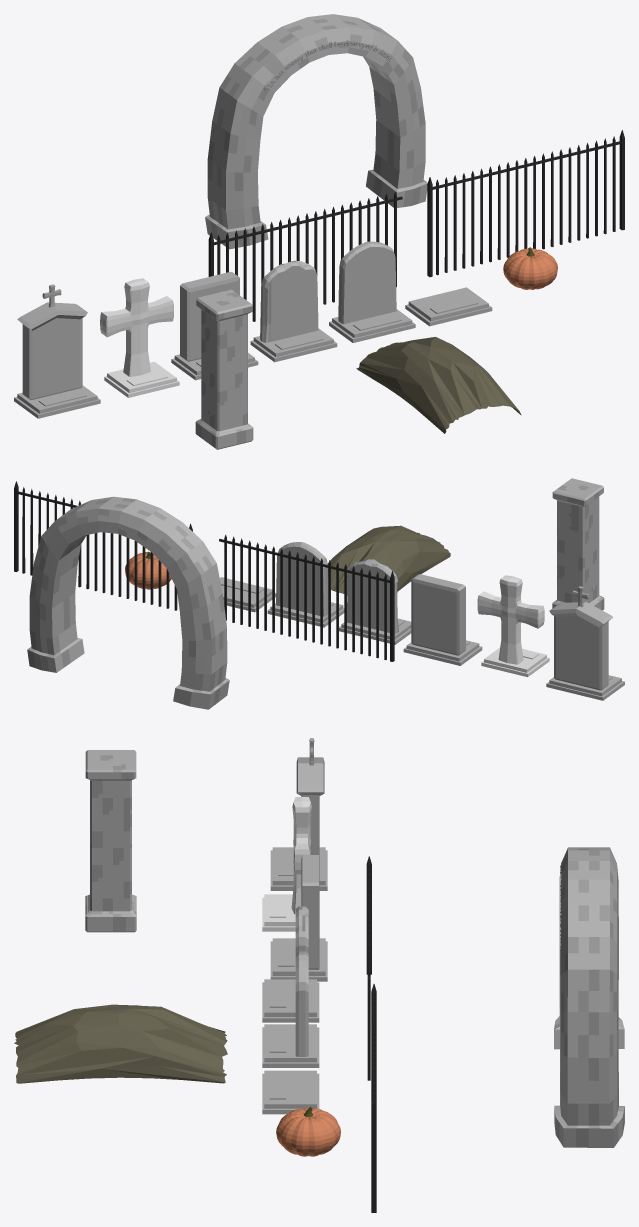
File: Graveyard.fbx
The picture shows the model from 3 angles, top to bottom: view 1: azimuth 30°, elevation 25°; view 2: azimuth 150°, elevation 25°; view 3: azimuth 270°, elevation 25°; orthographic projection. The views are drawn at different scales.
Parts seen in each view (by area): view 1: Arch, Full Gate, Mound of Dirt, Column, Regal Gravestone, Standard Gravestone, Destroyed Gravestone, Cross Gravestone, Half Gate, Square Gravestone, Graveplate, Pumpkin; view 2: Arch, Half Gate, Regal Gravestone, Column, Square Gravestone, Full Gate, Mound of Dirt, Cross Gravestone, Standard Gravestone, Destroyed Gravestone, Graveplate, Pumpkin; view 3: Arch, Mound of Dirt, Column, Standard Gravestone, Square Gravestone, Regal Gravestone, Cross Gravestone, Destroyed Gravestone, Pumpkin, Graveplate, Full Gate, Half Gate.
Boxes of the visible parts, left/top/right/bottom form: Arch: left=205, top=14, right=427, bottom=249; Full Gate: left=427, top=130, right=624, bottom=277; Mound of Dirt: left=356, top=337, right=521, bottom=433; Column: left=195, top=289, right=253, bottom=449; Regal Gravestone: left=14, top=284, right=100, bottom=418; Standard Gravestone: left=329, top=241, right=415, bottom=342; Destroyed Gravestone: left=250, top=260, right=337, bottom=362; Cross Gravestone: left=100, top=278, right=179, bottom=397; Half Gate: left=208, top=192, right=402, bottom=321; Square Gravestone: left=171, top=271, right=258, bottom=380; Graveplate: left=405, top=287, right=492, bottom=326; Pumpkin: left=503, top=247, right=557, bottom=289; Arch: left=27, top=496, right=229, bottom=709; Half Gate: left=219, top=534, right=394, bottom=661; Regal Gravestone: left=546, top=586, right=624, bottom=700; Column: left=552, top=478, right=604, bottom=610; Square Gravestone: left=403, top=574, right=482, bottom=665; Full Gate: left=14, top=481, right=192, bottom=610; Mound of Dirt: left=328, top=525, right=450, bottom=595; Cross Gravestone: left=477, top=575, right=549, bottom=677; Standard Gravestone: left=267, top=542, right=344, bottom=627; Destroyed Gravestone: left=339, top=559, right=411, bottom=644; Graveplate: left=219, top=577, right=276, bottom=612; Pumpkin: left=125, top=551, right=171, bottom=589; Arch: left=554, top=847, right=624, bottom=1147; Mound of Dirt: left=14, top=1004, right=227, bottom=1083; Column: left=85, top=750, right=136, bottom=932; Standard Gravestone: left=262, top=951, right=319, bottom=1067; Square Gravestone: left=270, top=855, right=327, bottom=981; Regal Gravestone: left=270, top=738, right=327, bottom=890; Cross Gravestone: left=262, top=797, right=311, bottom=931; Destroyed Gravestone: left=262, top=906, right=319, bottom=1022; Pumpkin: left=276, top=1107, right=340, bottom=1156; Graveplate: left=262, top=1070, right=319, bottom=1114; Full Gate: left=371, top=984, right=376, bottom=1212; Half Gate: left=366, top=856, right=371, bottom=1080.
Bounding box in the file's own units: 937 × 293 × 666.
